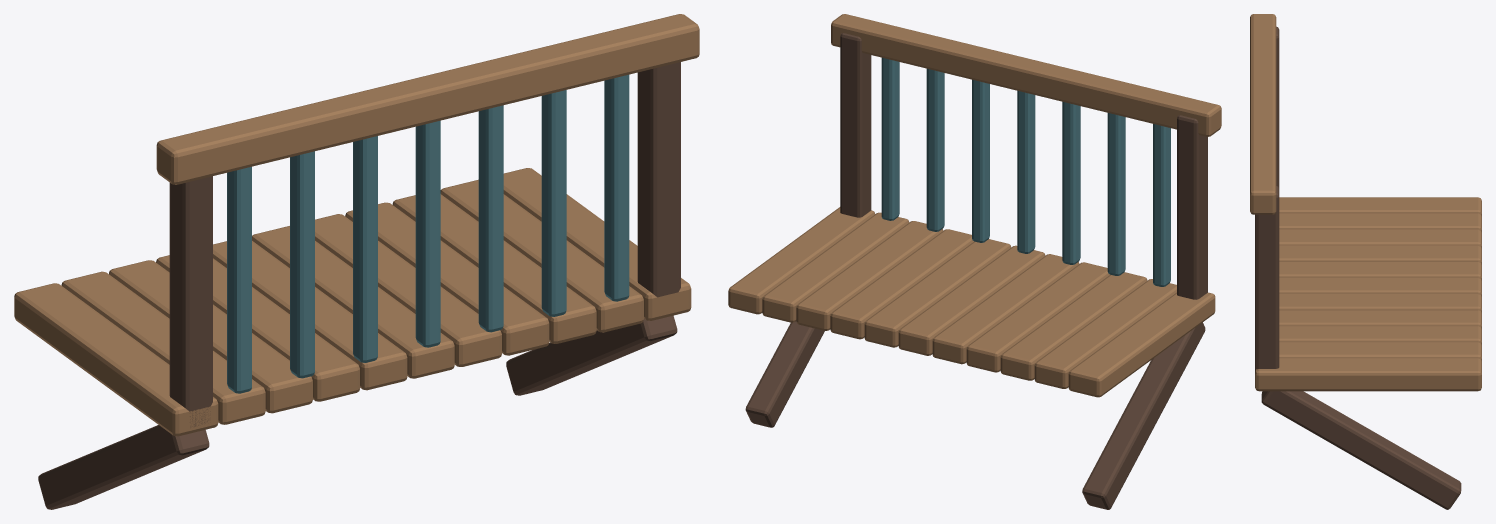
File: attachment_balcony_2m__attachments.glb
3 renders of one model, left to right at view 1: azimuth 30°, elevation 25°; view 2: azimuth 150°, elevation 25°; view 3: azimuth 270°, elevation 25°, orthographic. The views are drawn at different scales.
Visible parts, largest first — view 1: attachment_balcony_2m__attachments__mesh_00; view 2: attachment_balcony_2m__attachments__mesh_00; view 3: attachment_balcony_2m__attachments__mesh_00.
Boxes of the visible parts, bbox=[...] form: attachment_balcony_2m__attachments__mesh_00: bbox=[14, 14, 699, 509]; attachment_balcony_2m__attachments__mesh_00: bbox=[728, 14, 1221, 509]; attachment_balcony_2m__attachments__mesh_00: bbox=[1250, 14, 1481, 509].
Bounding box in the file's own units: 2.1 × 1.76 × 1.14.
